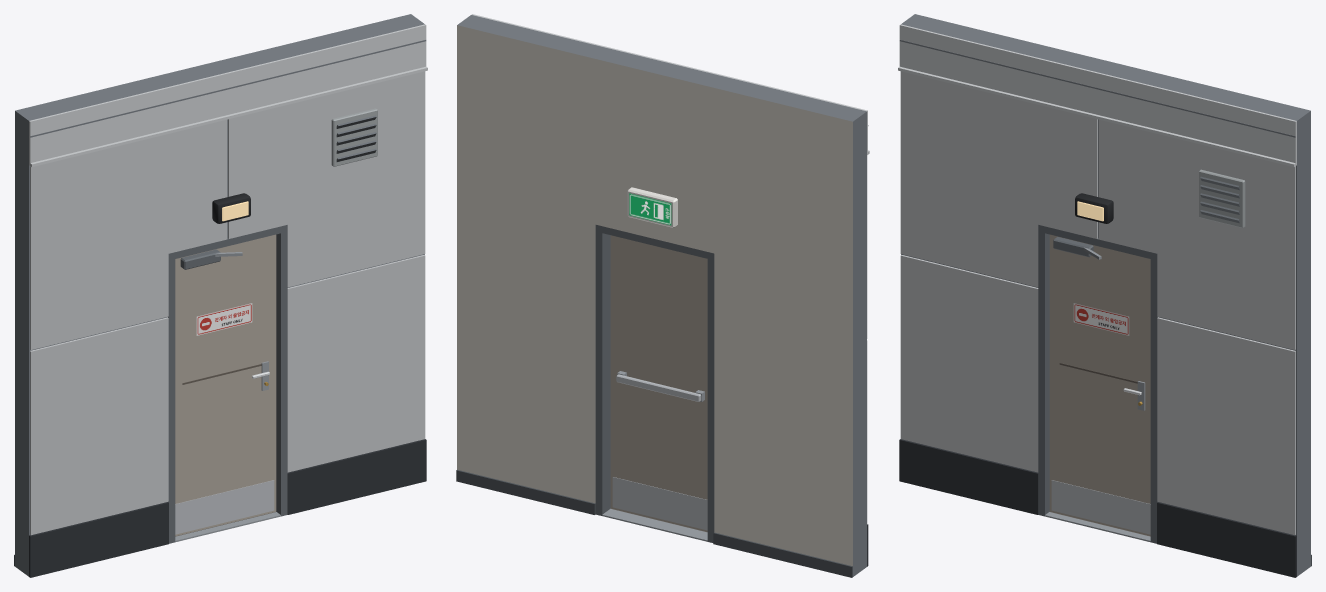
File: SC_Bld_Store_Wall_Back_Door_3m.gltf
The picture shows the model from 3 angles, left to right: view 1: azimuth 30°, elevation 25°; view 2: azimuth 150°, elevation 25°; view 3: azimuth 330°, elevation 25°; orthographic projection.
Visible parts, largest first — view 1: SC_Bld_Store_Wall_Back_Door_3m; view 2: SC_Bld_Store_Wall_Back_Door_3m; view 3: SC_Bld_Store_Wall_Back_Door_3m.
Part boxes in pixels (x1,y1,x2,y2): SC_Bld_Store_Wall_Back_Door_3m: (14,14,427,577); SC_Bld_Store_Wall_Back_Door_3m: (456,14,869,577); SC_Bld_Store_Wall_Back_Door_3m: (898,14,1311,577).
Bounding box in the file's own units: 3 × 3.3 × 0.3615.
4 materials, 4 textured.
